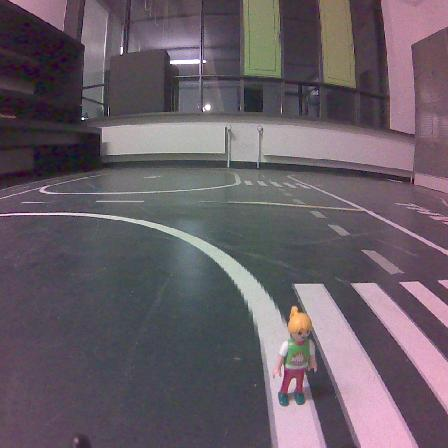CHILD: (273, 306, 316, 405)
